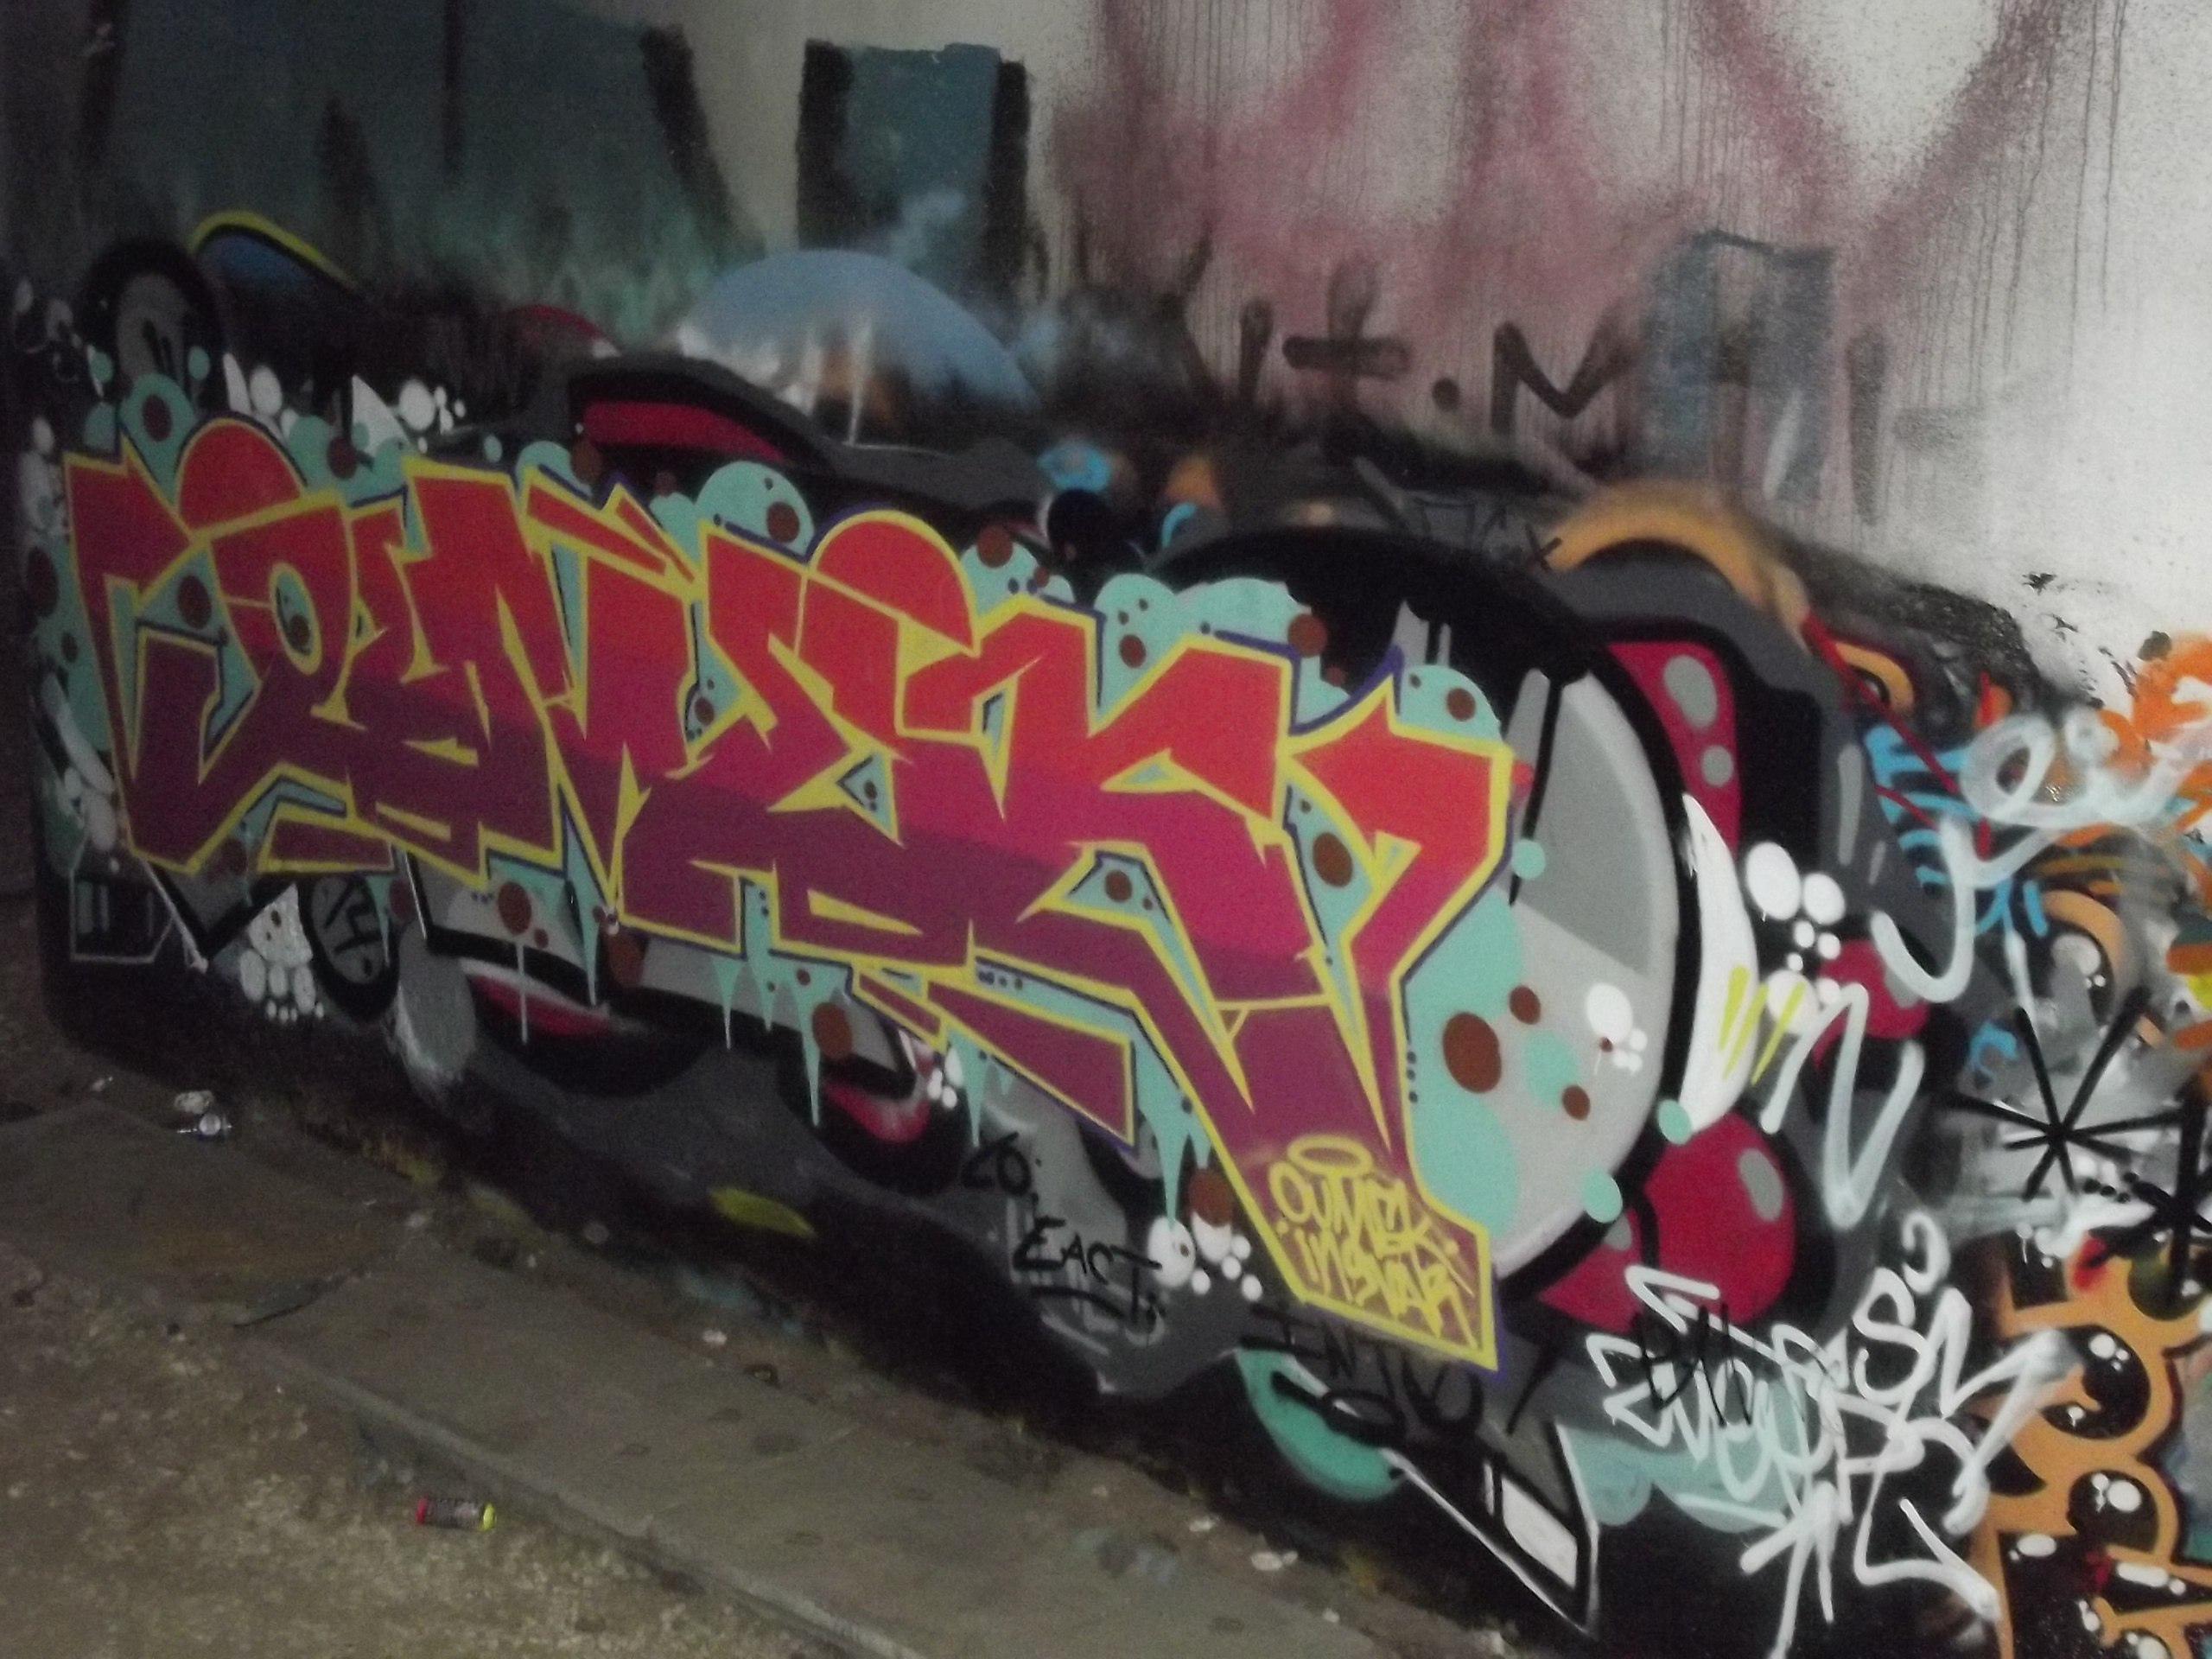graffity: (14, 295, 1973, 1635), (1576, 1215, 2055, 1640), (1824, 624, 2205, 1060)
